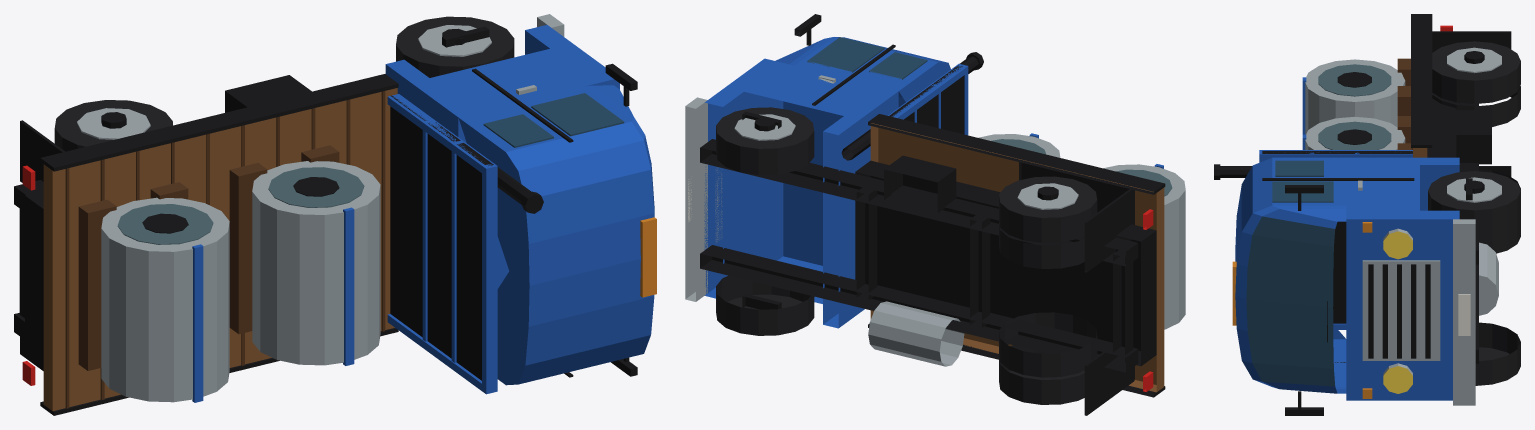
File: loaded.glb
3 renders of one model, left to right at view 1: azimuth 30°, elevation 25°; view 2: azimuth 150°, elevation 25°; view 3: azimuth 270°, elevation 25°, orthographic. The views are drawn at different scales.
Visible parts, largest first — view 1: loaded_cab_upper, loaded_deck, loaded_coil-2.55, loaded_coil-0.45, loaded_headboard, loaded_side1_-3.60_1.67_black, loaded_cab_arch, loaded_front1, loaded_chock-2.55-1, loaded_chock-0.45-1, loaded_rear_out1, loaded_headboard_top (+24 smaller); view 2: loaded_subframe, loaded_cab_arch, loaded_chassis-1, loaded_cab_front, loaded_deck, loaded_cab_back, loaded_chassis1, loaded_front1, loaded_rear_out1, loaded_fuel_tank, loaded_side1_-3.60_1.67_black, loaded_bumper (+21 smaller); view 3: loaded_cab_upper, loaded_cab_front, loaded_grille, loaded_rear_out1, loaded_front1, loaded_bumper, loaded_coil-2.55, loaded_cab_arch, loaded_side1_-3.60_1.67_black, loaded_front-1, loaded_battery_box, loaded_headboard (+31 smaller).
Part boxes in pixels (x1,y1,x2,y2): loaded_cab_upper: [458, 85, 654, 385]; loaded_deck: [43, 88, 397, 410]; loaded_coil-2.55: [101, 197, 229, 402]; loaded_coil-0.45: [252, 161, 380, 365]; loaded_headboard: [390, 95, 493, 380]; loaded_side1_-3.60_1.67_black: [40, 74, 398, 171]; loaded_cab_arch: [430, 49, 597, 288]; loaded_front1: [396, 16, 514, 77]; loaded_chock-2.55-1: [78, 199, 116, 370]; loaded_chock-0.45-1: [229, 163, 267, 334]; loaded_rear_out1: [54, 100, 172, 151]; loaded_headboard_top: [482, 163, 497, 393]; loaded_subframe: [855, 160, 1156, 366]; loaded_cab_arch: [744, 63, 882, 303]; loaded_chassis-1: [700, 245, 1138, 372]; loaded_cab_front: [704, 58, 783, 298]; loaded_deck: [870, 123, 1164, 392]; loaded_cab_back: [823, 87, 898, 328]; loaded_chassis1: [700, 139, 1138, 266]; loaded_front1: [716, 107, 814, 174]; loaded_rear_out1: [999, 176, 1097, 242]; loaded_fuel_tank: [868, 301, 964, 366]; loaded_side1_-3.60_1.67_black: [868, 114, 1165, 194]; loaded_bumper: [685, 97, 707, 301]; loaded_cab_upper: [1235, 157, 1346, 393]; loaded_cab_front: [1346, 210, 1459, 400]; loaded_grille: [1362, 260, 1440, 360]; loaded_rear_out1: [1432, 41, 1520, 103]; loaded_front1: [1428, 171, 1520, 234]; loaded_bumper: [1453, 219, 1475, 405]; loaded_coil-2.55: [1305, 59, 1405, 134]; loaded_cab_arch: [1346, 165, 1419, 210]; loaded_side1_-3.60_1.67_black: [1411, 14, 1432, 147]; loaded_front-1: [1475, 322, 1520, 385]; loaded_battery_box: [1456, 110, 1491, 164]; loaded_headboard: [1262, 151, 1412, 323].
Bounding box in the file's own units: 7.56 × 3.9 × 4.75.
